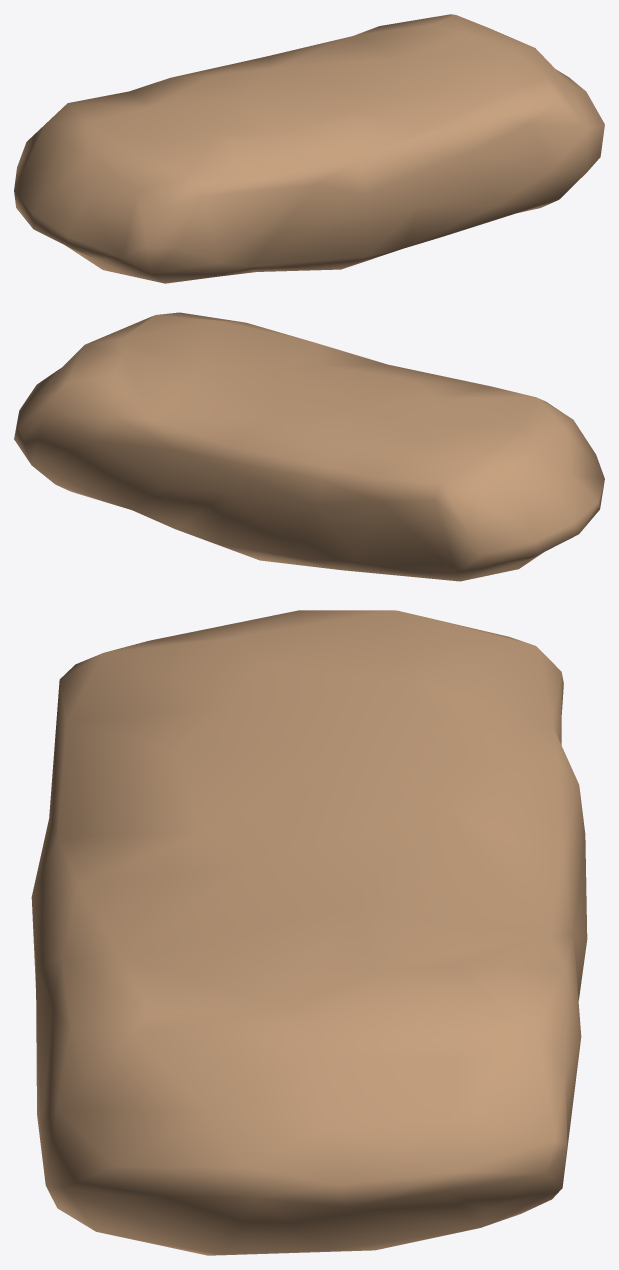
The model's file is sack.glb.
3 renders of one model, top to bottom at view 1: azimuth 30°, elevation 25°; view 2: azimuth 150°, elevation 25°; view 3: azimuth 270°, elevation 25°, orthographic. The views are drawn at different scales.
Parts seen in each view (by area): view 1: Sack; view 2: Sack; view 3: Sack.
Boxes of the visible parts, x1=… form: Sack: x1=14, y1=14, x2=604, y2=283; Sack: x1=14, y1=312, x2=604, y2=581; Sack: x1=31, y1=610, x2=587, y2=1255.
Bounding box in the file's own units: 1.29 × 0.3277 × 0.5754.
